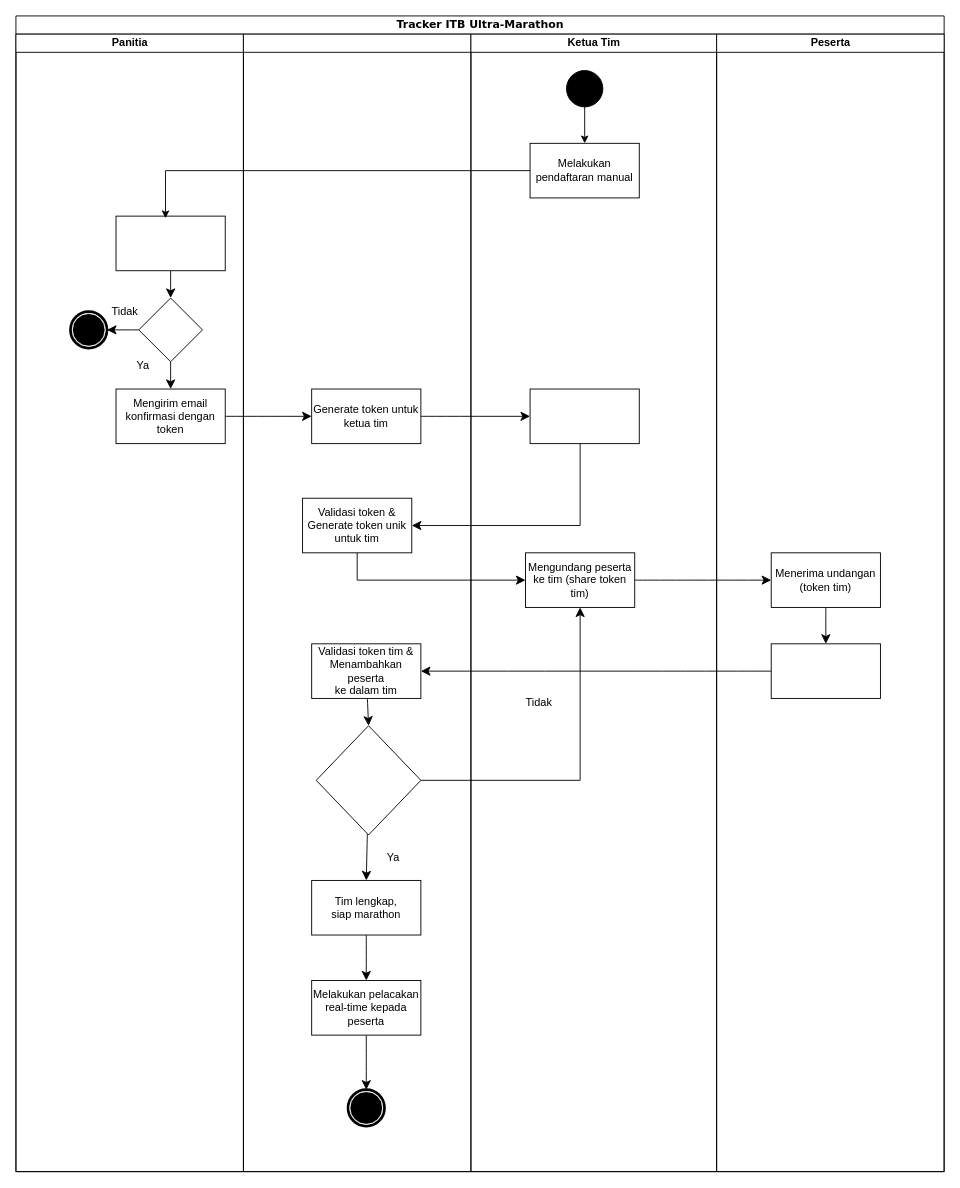
Image size: 960x1188. Some labels were removed from this diagram. Each missing label, with the box of its shape:
Membuat akun dan tim dengan token: (529, 388, 639, 444)
Membuat akun menggunakan token tim: (770, 643, 880, 698)
Menerima dan memverivikasi manual: (115, 215, 225, 271)
Semua peserta bergabung?: (315, 725, 421, 835)
Sistem: (243, 33, 471, 1172)
Valid?: (138, 297, 202, 362)
